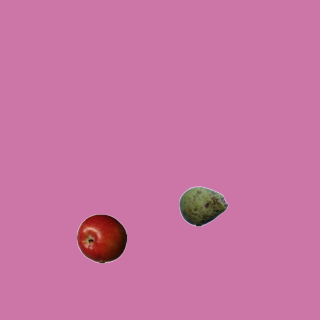Apple Braeburn: (76, 213, 126, 263)
Pear Stone: (178, 181, 228, 231)
